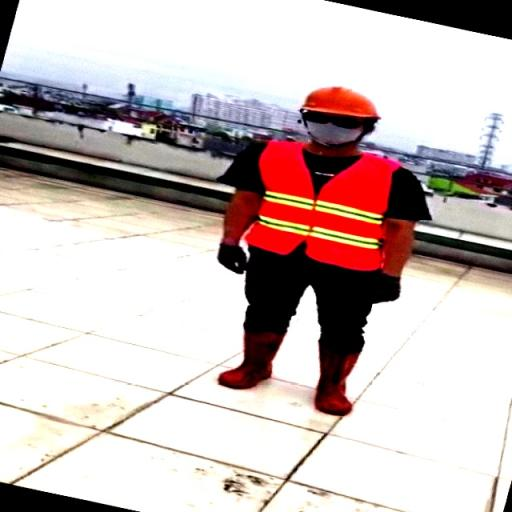Person: (208, 70, 432, 432)
boots: (314, 340, 360, 422), (223, 333, 281, 398)
gloves: (214, 230, 251, 283), (372, 266, 408, 306)
goggles: (298, 111, 380, 125)
helmet: (294, 80, 387, 118)
vest: (249, 144, 409, 291)
